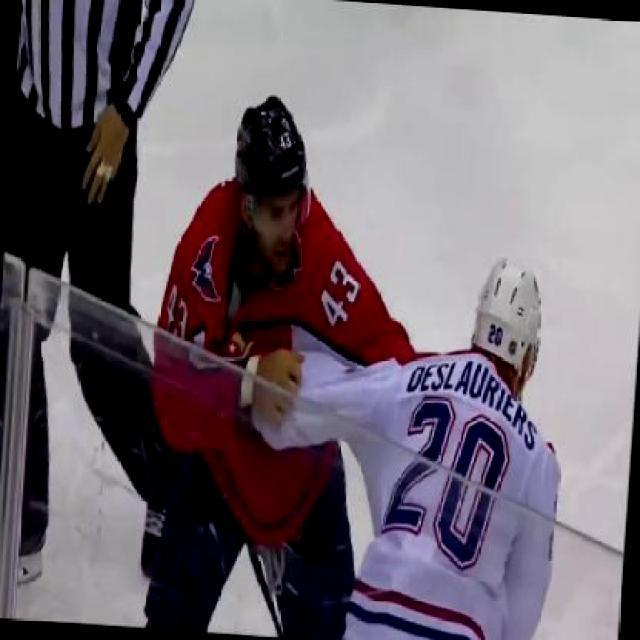fight: (130, 87, 588, 638)
